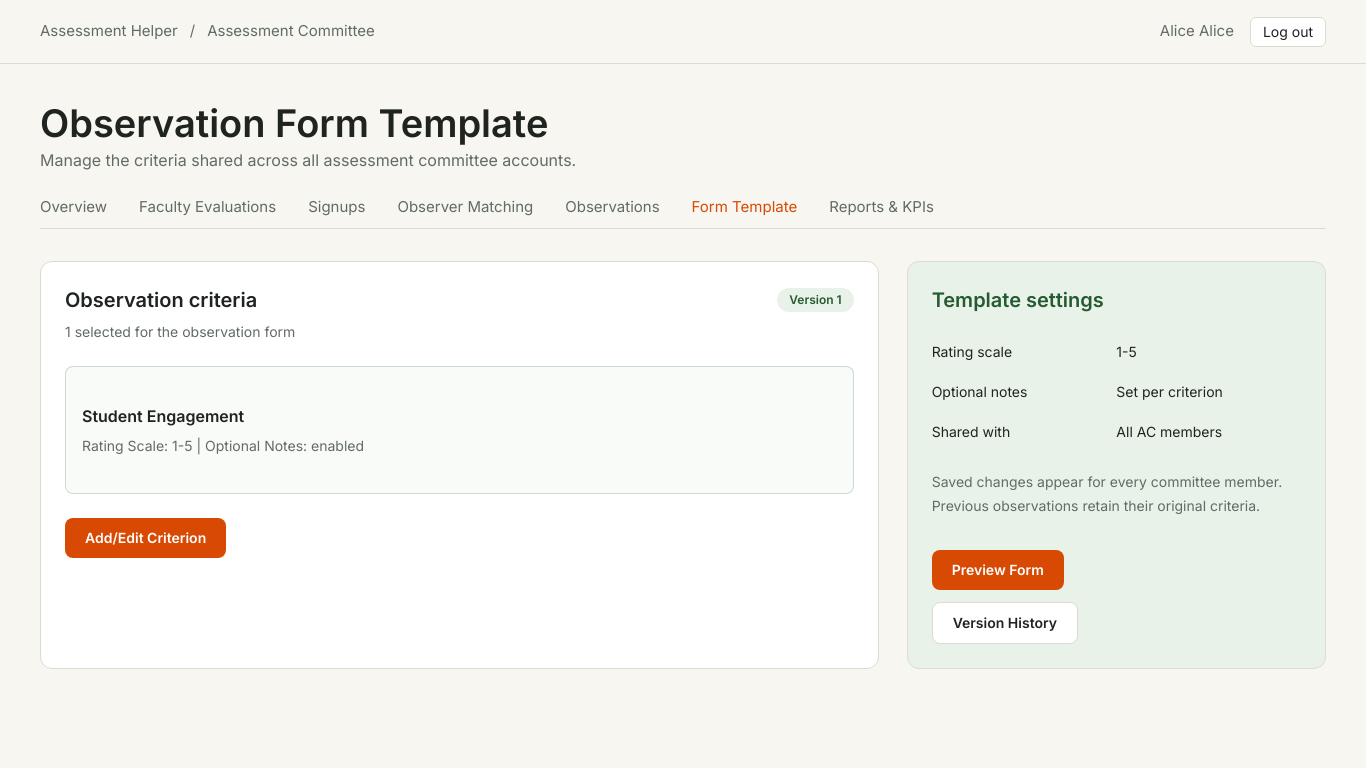
Scenario: rejects an empty selection and duplicate names before saving
This screenshot has width=1366, height=768.
Click the button "Add/Edit Criterion" at (146, 538), box 65,518 -> 226,558
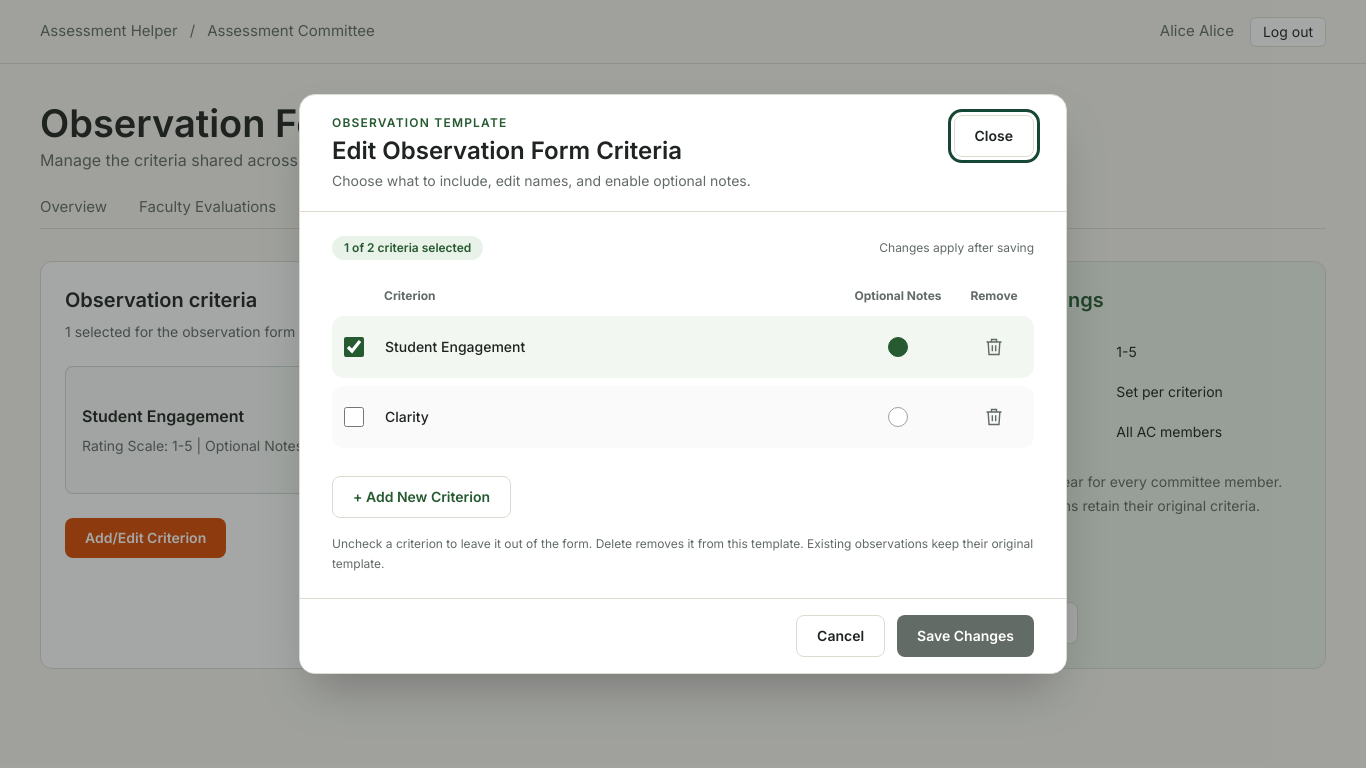
Click the checkbox named "Include criterion 1" at (354, 347), box 344,337 -> 364,357
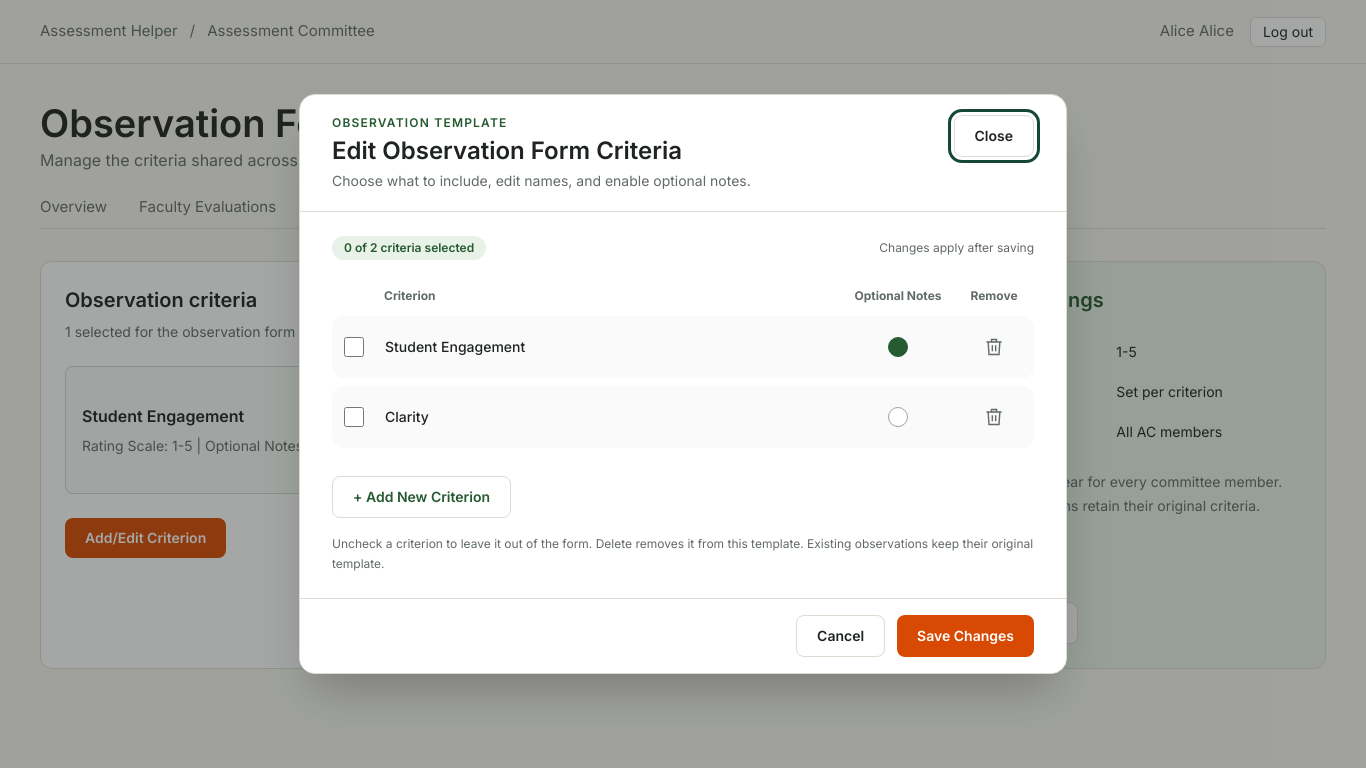
Click the button "Save Changes" at (966, 636), box 897,615 -> 1034,657
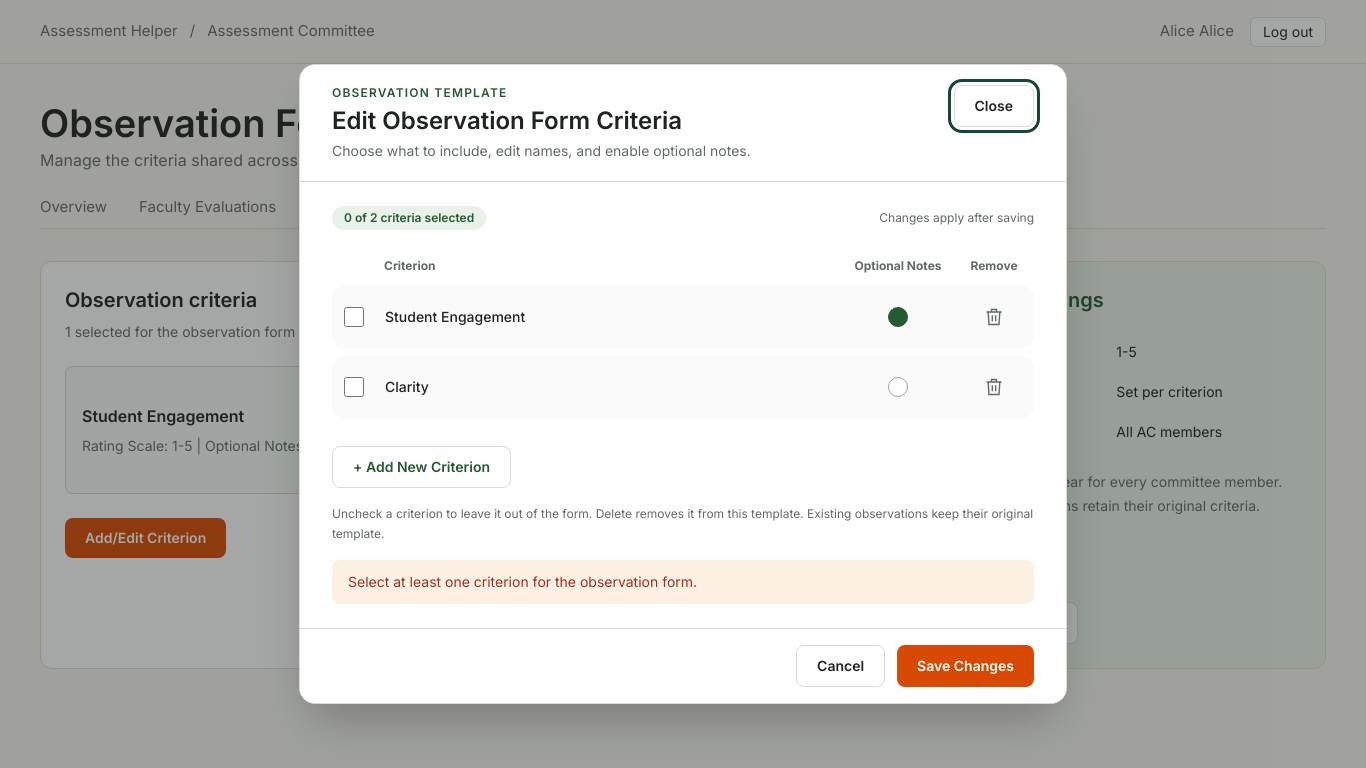
Expected: the text "Select at least one criterion for the observation form." is shown, 332,560 -> 1034,604
Click the checkbox named "Include criterion 1" at (354, 317), box 344,307 -> 364,327
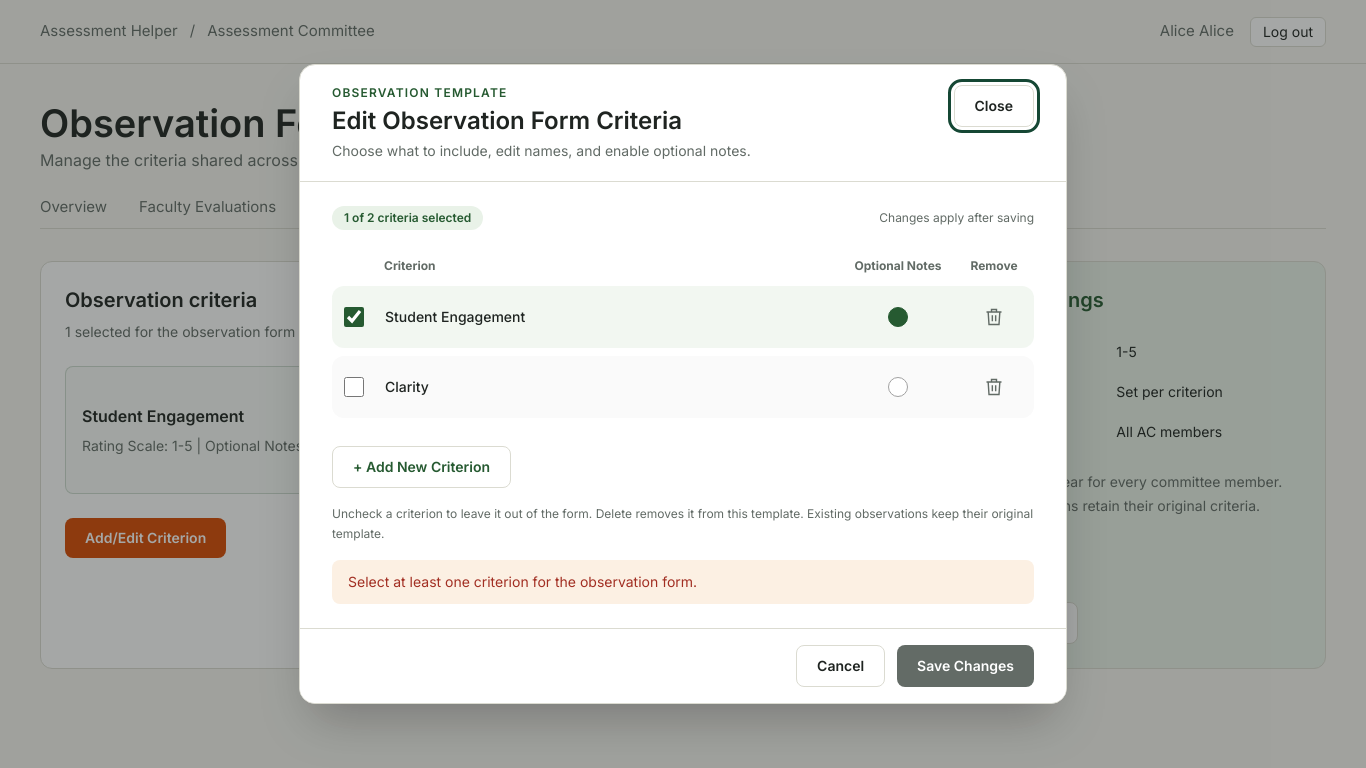
Replace the text in the field named "Criterion 2 name" with "student engagement" at (609, 387), box 376,368 -> 842,406
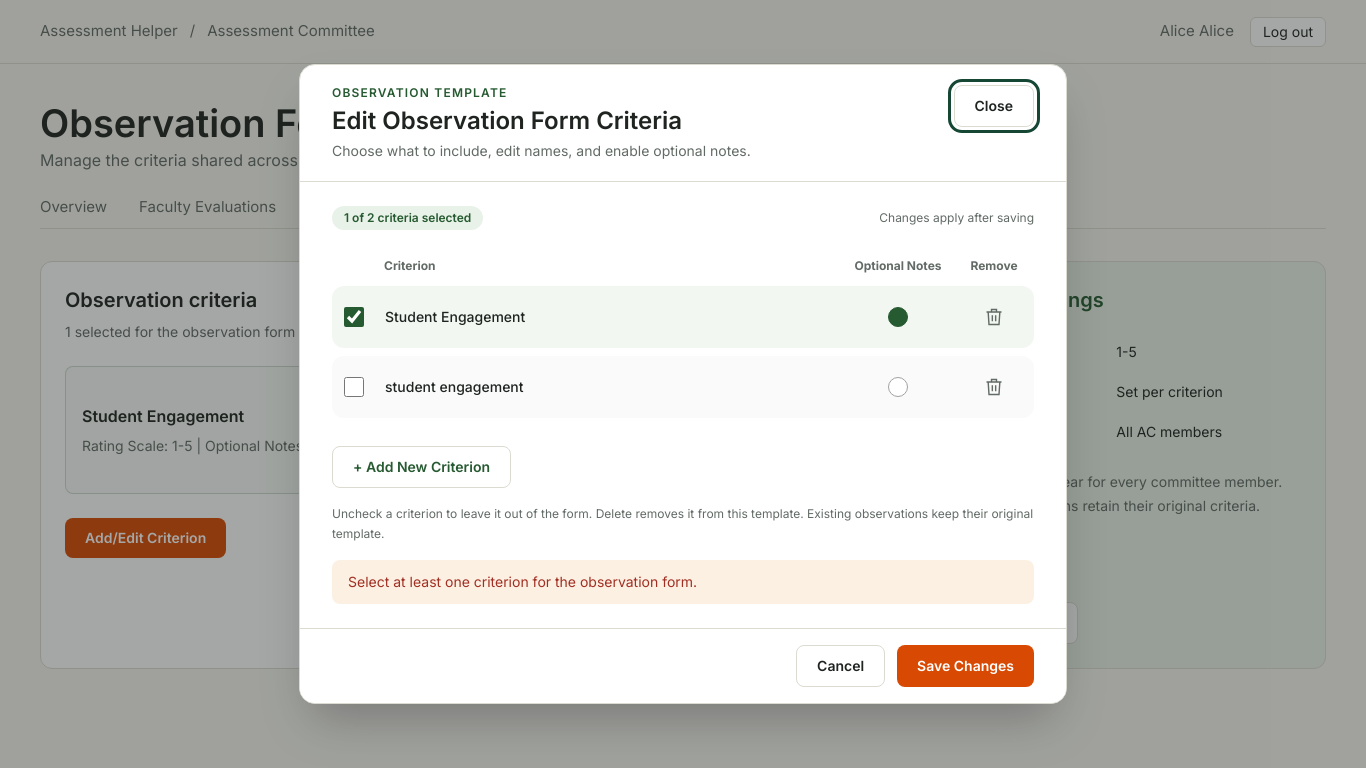
Click the button "Save Changes" at (966, 666), box 897,645 -> 1034,687
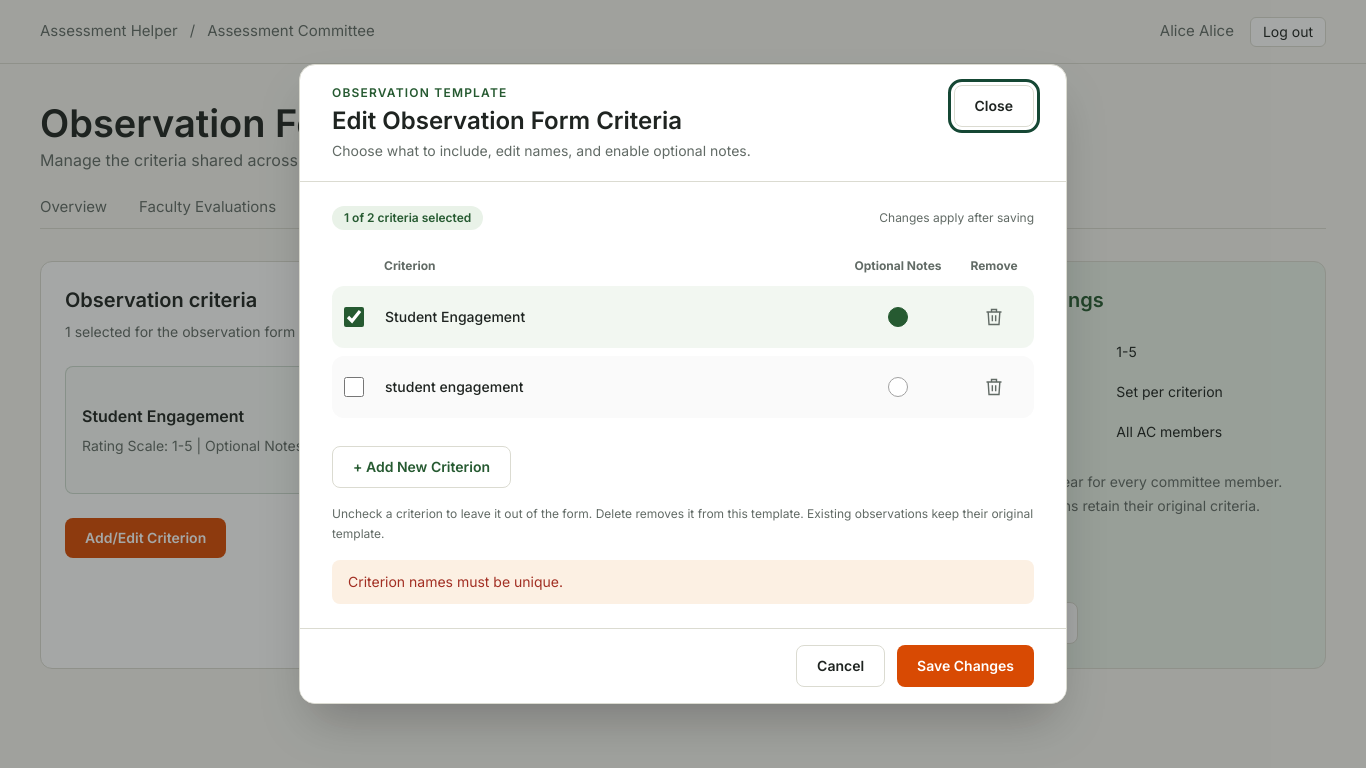
Expected: the text "Criterion names must be unique." is shown, 332,560 -> 1034,604
